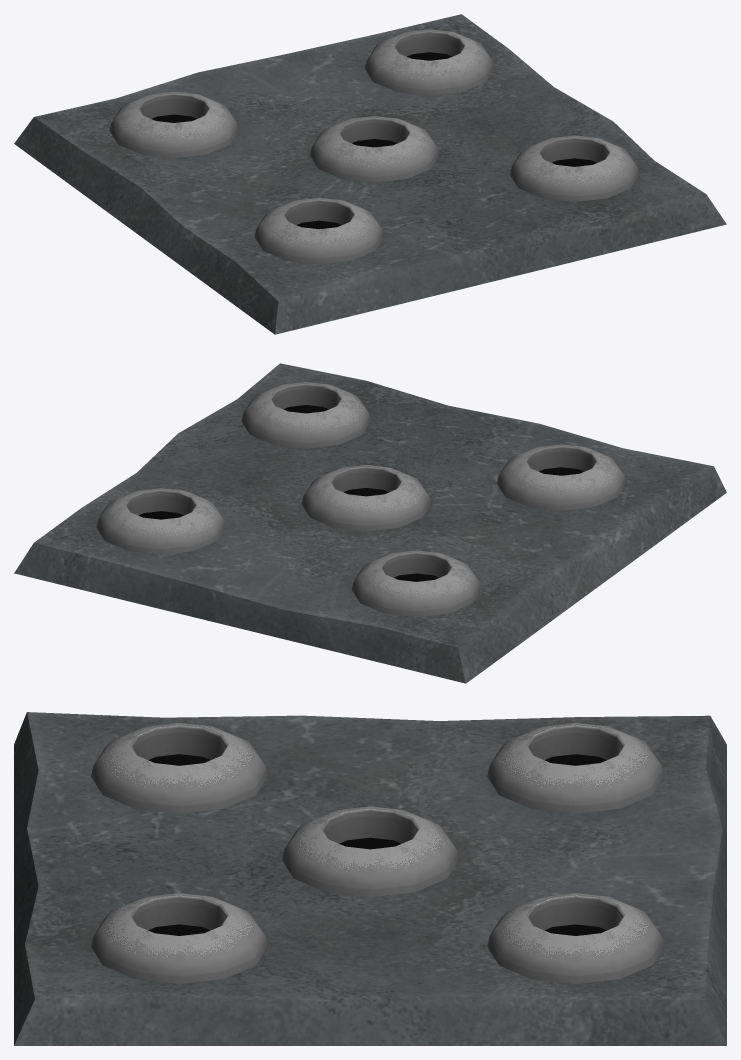
File: FloorSpike.fbx
3 views of the same model, one above another, from view 1: azimuth 30°, elevation 25°; view 2: azimuth 150°, elevation 25°; view 3: azimuth 270°, elevation 25° (orthographic). The views are drawn at different scales.
Visible parts, largest first — view 1: FLOOR_Spike; view 2: FLOOR_Spike; view 3: FLOOR_Spike.
Part boxes in pixels (x1,y1,x2,y2): FLOOR_Spike: (14,14,726,334); FLOOR_Spike: (14,363,726,683); FLOOR_Spike: (14,712,726,1045).
Size of the model in its own units: 8 by 0.8616 by 8.
1 material, 1 textured.
